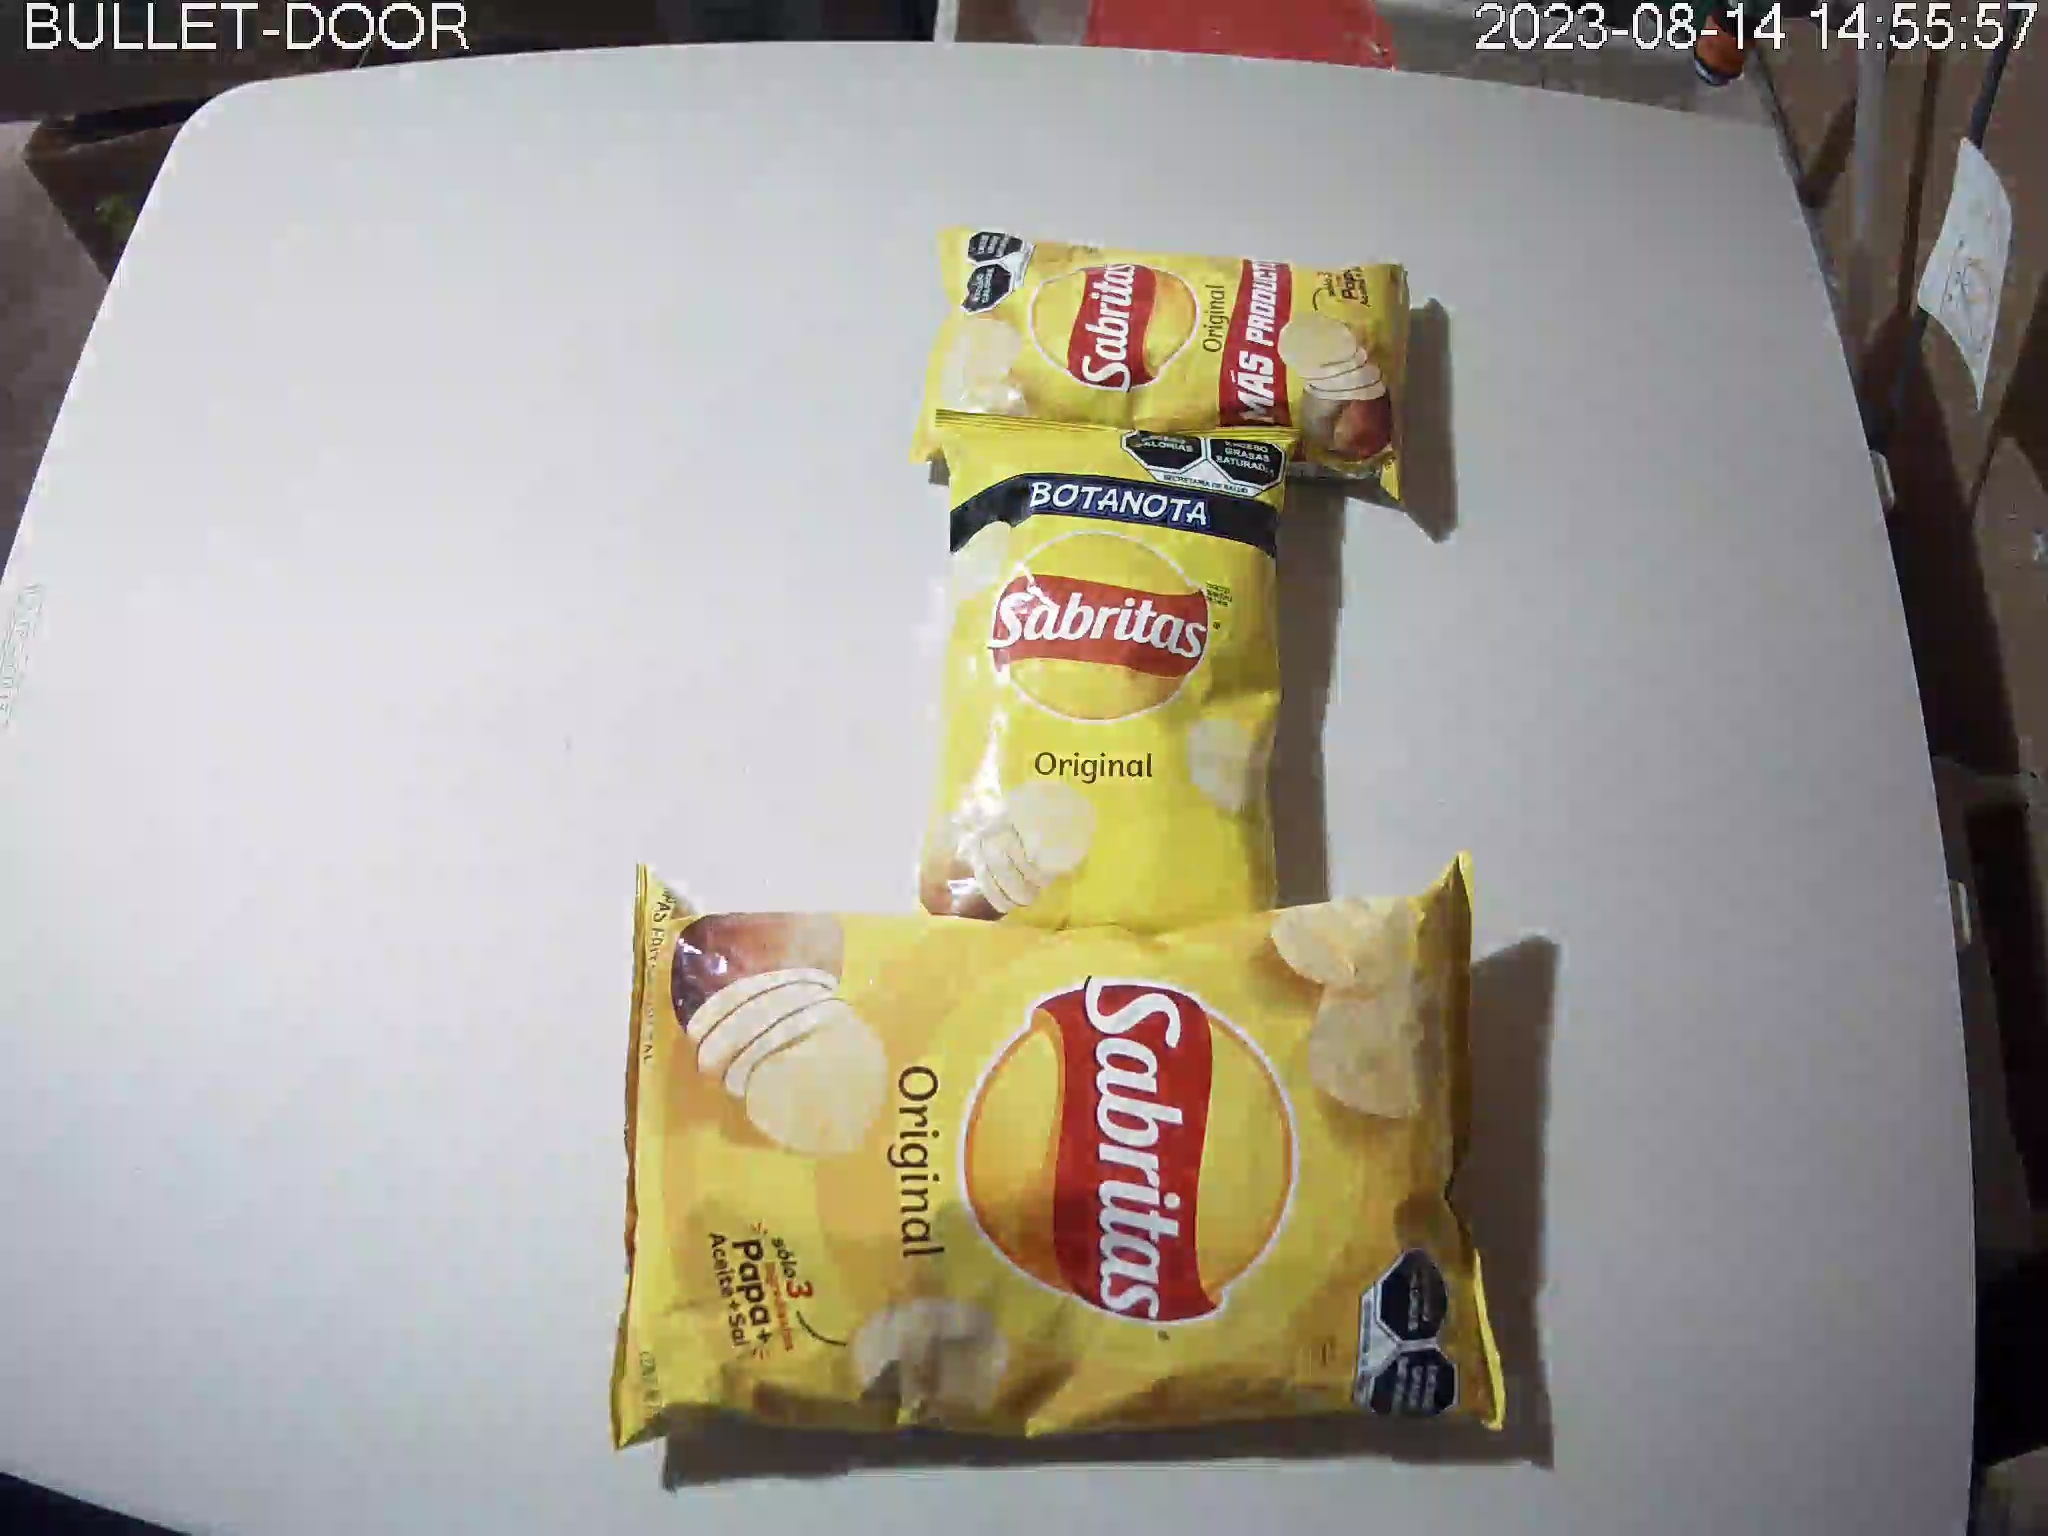Sabritas_160_F: (608, 850, 1505, 1450)
Sabritas_45_F: (910, 219, 1414, 502)
Sabritas_64_F: (918, 408, 1301, 978)
